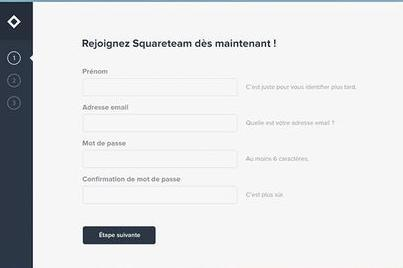button: (84, 227, 157, 245)
input: (81, 113, 240, 135), (82, 78, 240, 100), (81, 187, 240, 206), (81, 151, 241, 169)
label: (82, 175, 183, 185), (81, 104, 130, 113), (81, 140, 128, 148), (81, 68, 110, 76)
